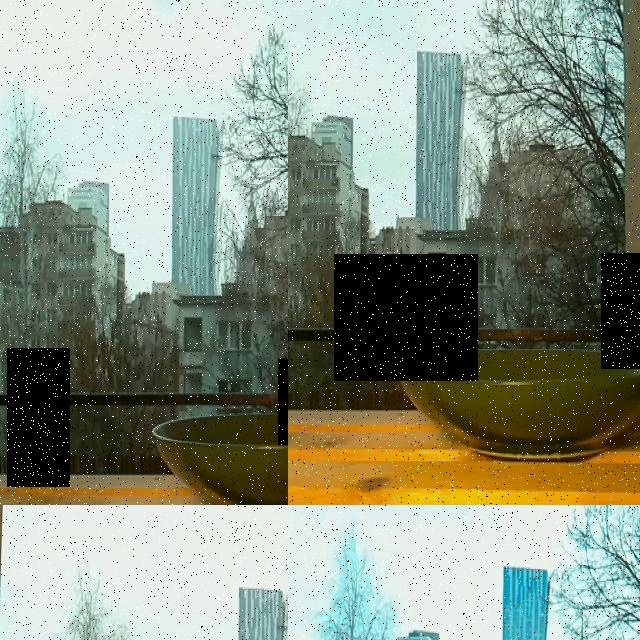Bogatka: (7, 348, 70, 487), (601, 253, 640, 369)
Wrobel: (334, 254, 478, 381)
